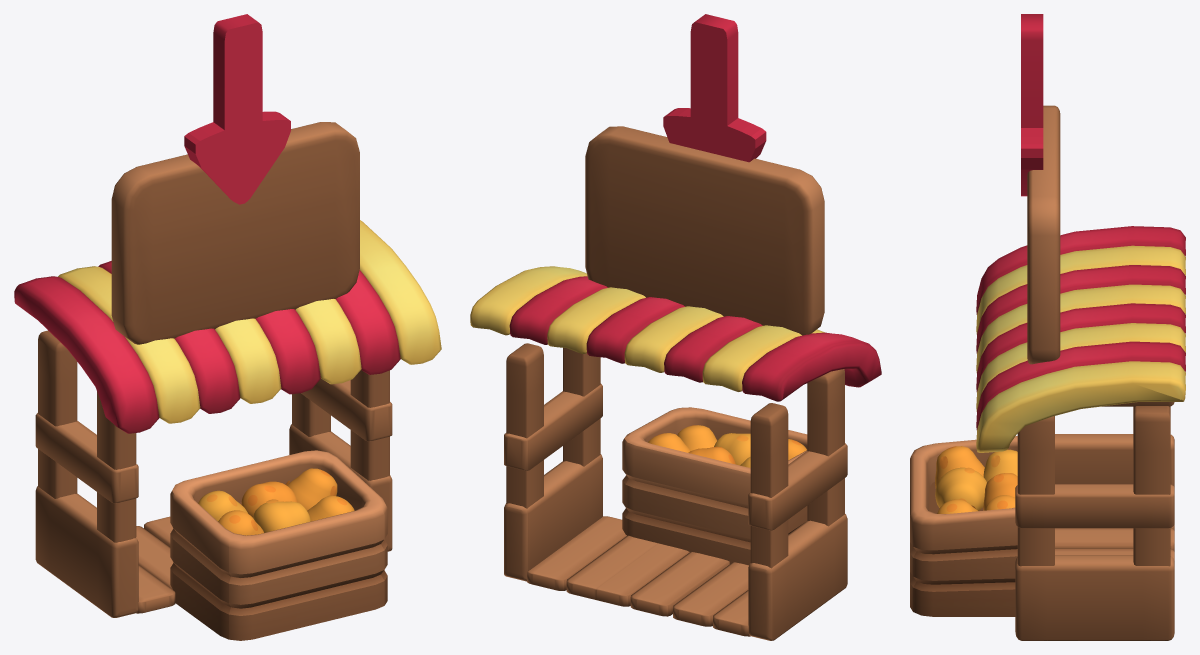
File: Stall.fbx
3 renders of one model, left to right at view 1: azimuth 30°, elevation 25°; view 2: azimuth 150°, elevation 25°; view 3: azimuth 270°, elevation 25°, orthographic. The views are drawn at different scales.
Visible parts, largest first — view 1: Mesh_0; view 2: Mesh_0; view 3: Mesh_0.
Part boxes in pixels (x1=…): Mesh_0: x1=14, y1=14, x2=441, y2=640; Mesh_0: x1=470, y1=14, x2=881, y2=640; Mesh_0: x1=910, y1=14, x2=1185, y2=640.
Size of the model in its own units: 3.13 by 5.18 by 2.36.
